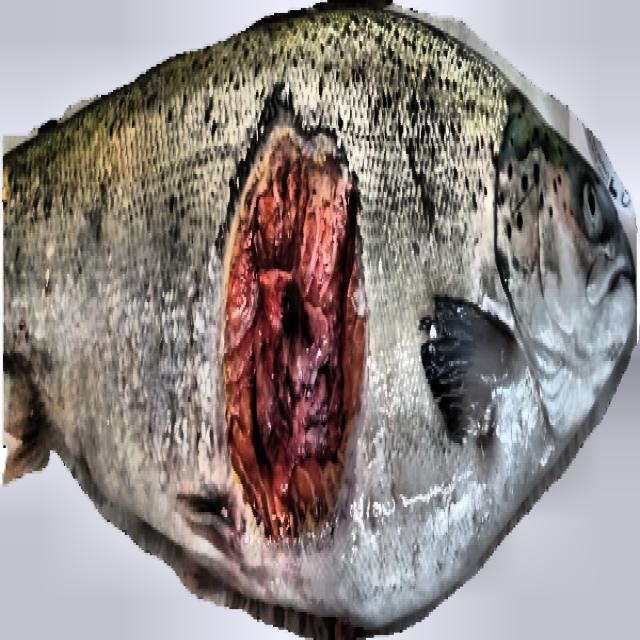mild_red: (3, 5, 558, 615)
wound: (222, 81, 368, 546)
